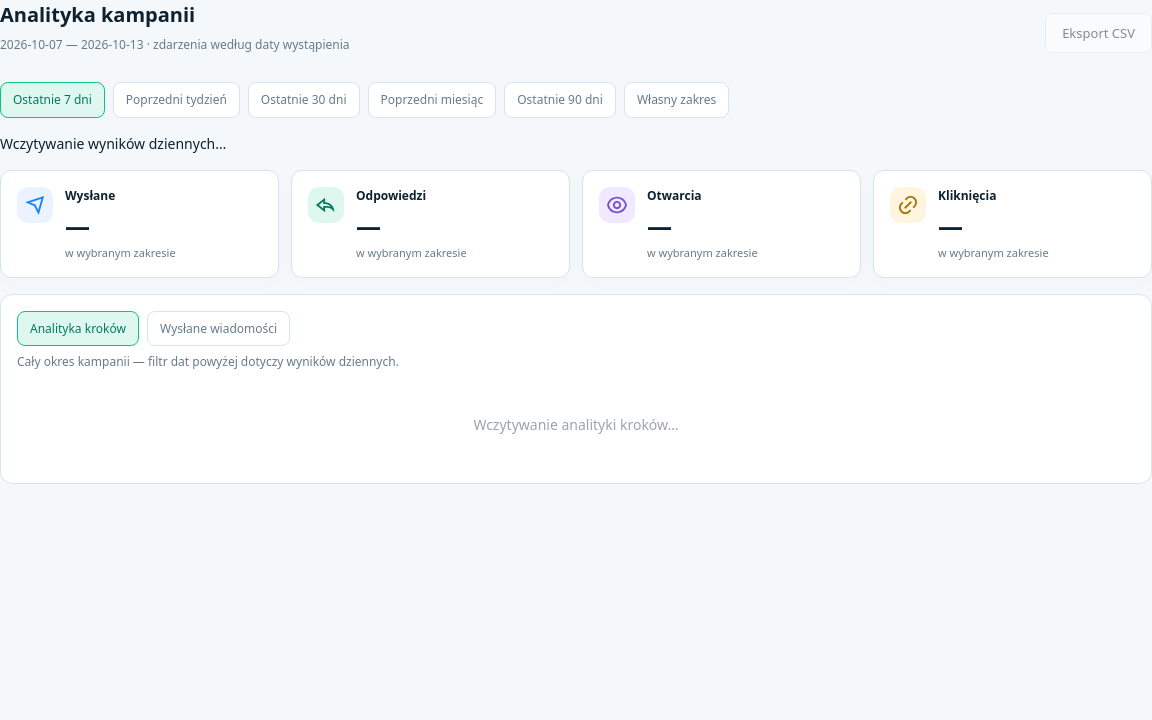
ignores an old range response after a newer range has loaded
What coordinates should you click on to do the following:
click the button "Ostatnie 30 dni"
I would click on:
 (304, 100)
Its box is [248,82,360,118].
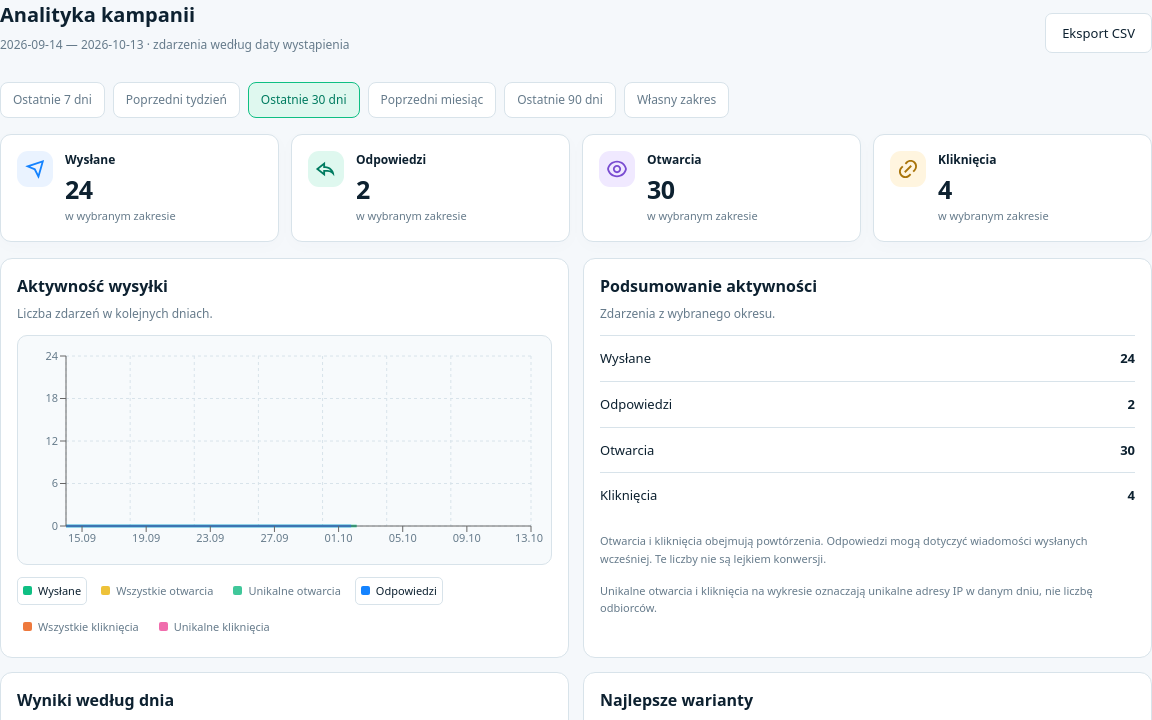
Expected: the heading "Wyniki według dnia" is shown, [17,689,174,711]
Expected: the 1st text with class "sk-metric-value" reads "24", [65,172,93,206]
